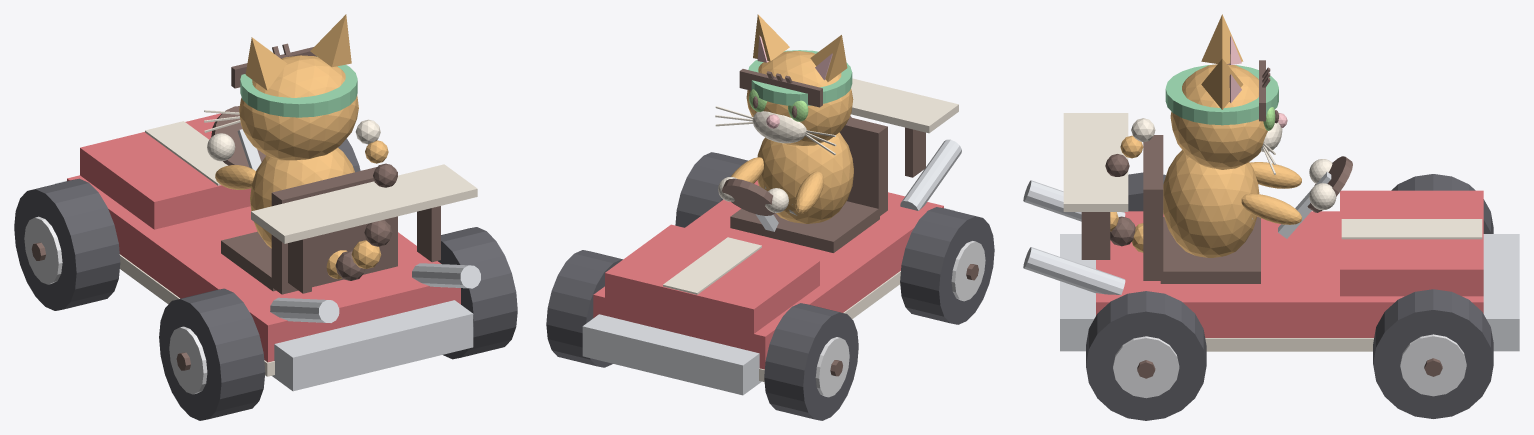
File: cat_kart.glb
The picture shows the model from 3 angles, left to right: view 1: azimuth 30°, elevation 25°; view 2: azimuth 150°, elevation 25°; view 3: azimuth 270°, elevation 25°; orthographic projection. The views are drawn at different scales.
Parts seen in each view (by area): view 1: Chassis, Bumper_rear, Hood, Wheel_FL, Wheel_RL, Spoiler_wing, Cat_head, Wheel_RR, Seat_back, Cat_body, Cat_headband, Racing_stripe (+19 smaller); view 2: Hood, Chassis, Bumper_front, Wheel_FL, Wheel_RL, Cat_body, Wheel_FR, Seat, Cat_head, Spoiler_wing, Seat_back, Wheel_RR (+15 smaller); view 3: Chassis, Hood, Wheel_RR, Wheel_FR, Cat_body, Spoiler_wing, Cat_head, Bumper_front, Seat, Wheel_FR_hub, Wheel_RR_hub, Seat_back (+19 smaller).
Part boxes in pixels (left/top/right/bottom): Chassis: left=67, top=175, right=460, bottom=362; Bumper_rear: left=272, top=300, right=473, bottom=391; Hood: left=80, top=113, right=251, bottom=229; Wheel_FL: left=14, top=178, right=120, bottom=310; Wheel_RL: left=159, top=288, right=265, bottom=420; Spoiler_wing: left=251, top=164, right=477, bottom=243; Cat_head: left=239, top=55, right=358, bottom=160; Wheel_RR: left=438, top=227, right=517, bottom=359; Seat_back: left=271, top=167, right=397, bottom=294; Cat_body: left=250, top=147, right=354, bottom=248; Cat_headband: left=240, top=56, right=357, bottom=117; Racing_stripe: left=145, top=121, right=227, bottom=185; Hood: left=605, top=224, right=819, bottom=344; Chassis: left=593, top=180, right=943, bottom=369; Bumper_front: left=582, top=314, right=761, bottom=395; Wheel_FL: left=764, top=303, right=858, bottom=420; Wheel_RL: left=900, top=207, right=994, bottom=324; Cat_body: left=757, top=132, right=853, bottom=223; Wheel_FR: left=546, top=250, right=622, bottom=367; Seat: left=730, top=201, right=879, bottom=252; Cat_head: left=746, top=51, right=853, bottom=145; Spoiler_wing: left=851, top=78, right=958, bottom=133; Seat_back: left=839, top=117, right=887, bottom=215; Wheel_RR: left=675, top=152, right=747, bottom=227; Chassis: left=1096, top=211, right=1483, bottom=337; Hood: left=1340, top=190, right=1483, bottom=296; Wheel_RR: left=1086, top=291, right=1206, bottom=420; Wheel_FR: left=1373, top=289, right=1493, bottom=418; Cat_body: left=1163, top=150, right=1259, bottom=257; Spoiler_wing: left=1063, top=113, right=1128, bottom=211; Cat_head: left=1170, top=64, right=1267, bottom=169; Bumper_front: left=1483, top=234, right=1519, bottom=351; Seat: left=1160, top=217, right=1260, bottom=283; Wheel_FR_hub: left=1400, top=334, right=1466, bottom=396; Wheel_RR_hub: left=1113, top=336, right=1179, bottom=398; Seat_back: left=1143, top=135, right=1163, bottom=280.
Bounding box in the file's own units: 2.44 × 2.42 × 3.46.
